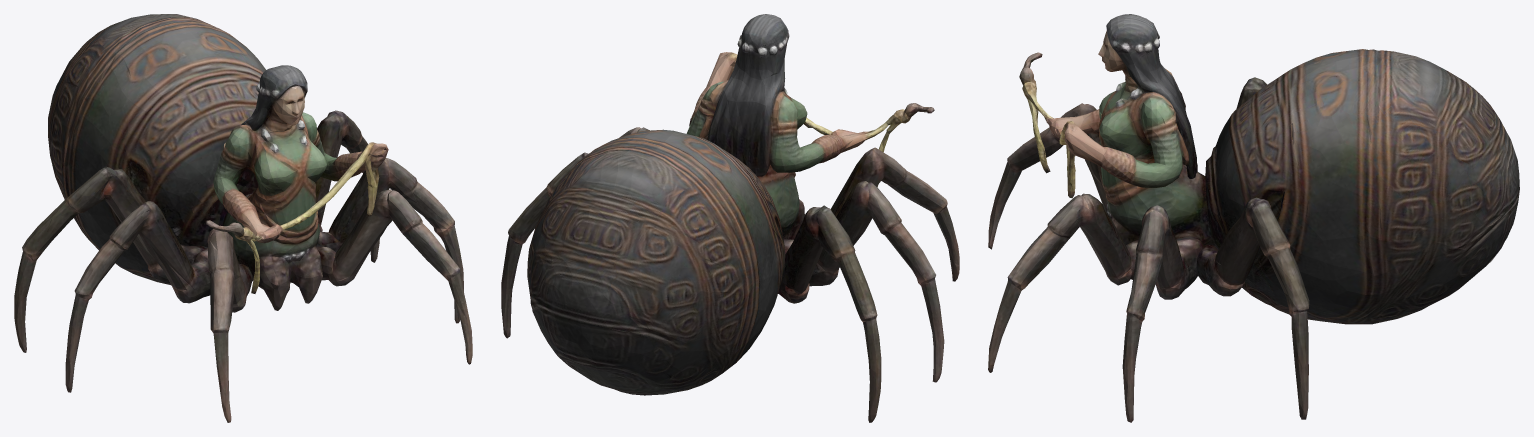
The model's file is ropeSpiderMaiden.glb.
The picture shows the model from 3 angles, left to right: view 1: azimuth 30°, elevation 25°; view 2: azimuth 150°, elevation 25°; view 3: azimuth 270°, elevation 25°; orthographic projection. The views are drawn at different scales.
Visible parts, largest first — view 1: world; view 2: world; view 3: world.
Boxes of the visible parts, bbox=[...] form: world: bbox=[14, 14, 472, 422]; world: bbox=[501, 14, 959, 422]; world: bbox=[988, 14, 1519, 422].
Size of the model in its own units: 0.8634 by 0.6546 by 1.
1 material, 1 textured.
